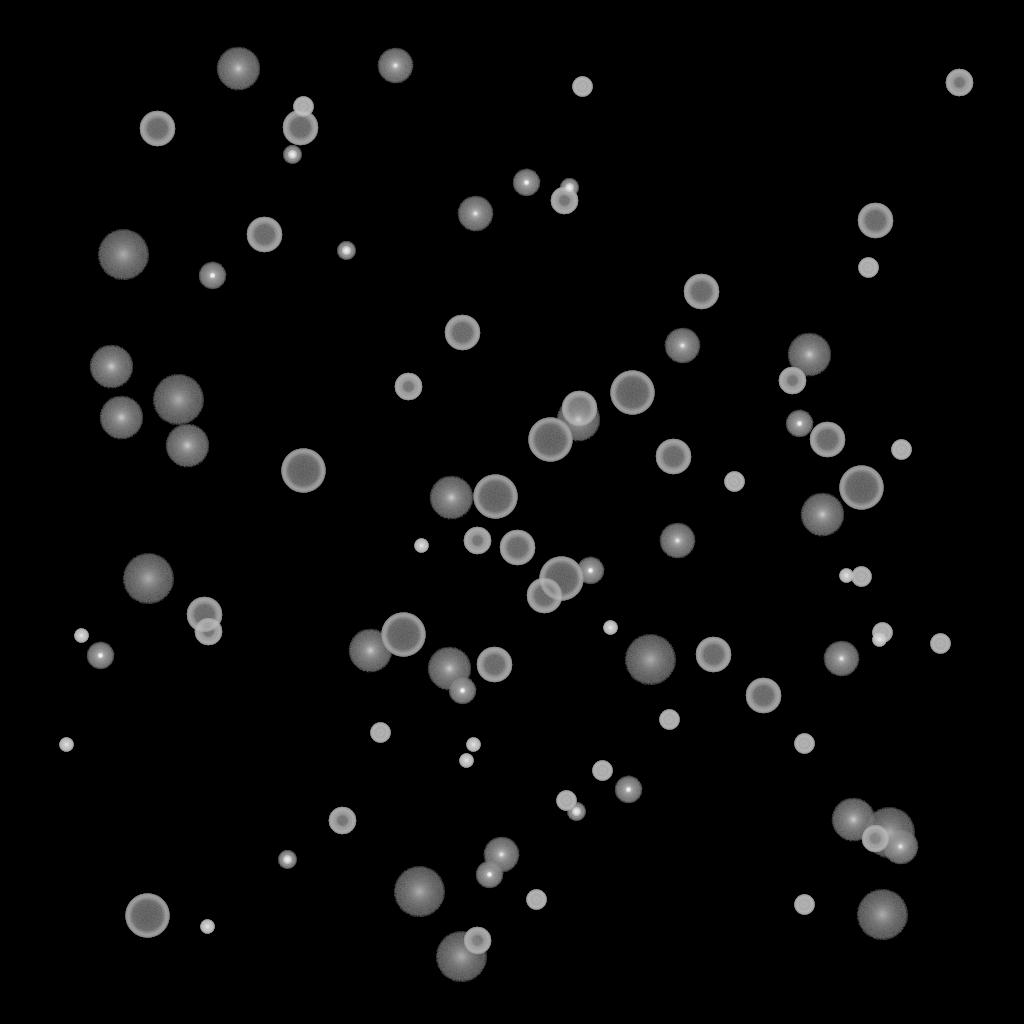depth:-10: (475, 861, 503, 889), (86, 642, 114, 670), (448, 677, 476, 705), (614, 776, 642, 804), (512, 169, 540, 197), (576, 557, 604, 585), (198, 262, 226, 290), (785, 410, 813, 438)
depth:-20: (560, 179, 578, 197), (278, 851, 296, 869), (337, 242, 355, 260), (283, 146, 301, 164), (567, 803, 585, 821)
depth:-30: (74, 629, 88, 643), (459, 754, 473, 768), (603, 621, 617, 635), (839, 569, 853, 583), (200, 920, 214, 934), (872, 633, 886, 647), (59, 738, 73, 752), (466, 738, 480, 752), (414, 539, 428, 553)
depth:-40: (858, 258, 878, 278), (572, 77, 592, 97), (794, 734, 814, 754), (526, 890, 546, 910), (293, 97, 313, 117), (794, 895, 814, 915), (872, 623, 892, 643), (851, 567, 871, 587), (370, 723, 390, 743), (592, 761, 612, 781), (930, 634, 950, 654), (556, 791, 576, 811), (659, 710, 679, 730), (891, 440, 911, 460), (724, 472, 744, 492)
depth:-50: (194, 618, 222, 646), (463, 927, 491, 955), (945, 69, 973, 97), (778, 367, 806, 395), (328, 807, 356, 835), (861, 825, 889, 853), (463, 527, 491, 555), (394, 373, 422, 401), (550, 187, 578, 215)
depth:-60: (282, 110, 318, 146), (246, 217, 282, 253), (655, 439, 691, 475), (476, 647, 512, 683), (745, 678, 781, 714), (857, 203, 893, 239), (561, 391, 597, 427), (695, 637, 731, 673), (526, 578, 562, 614), (186, 597, 222, 633), (499, 530, 535, 566), (809, 422, 845, 458), (683, 274, 719, 310), (444, 315, 480, 351), (139, 111, 175, 147)
depth:-70: (539, 557, 583, 601), (610, 371, 654, 415), (381, 613, 425, 657), (839, 466, 883, 510), (473, 475, 517, 519), (528, 418, 572, 462), (281, 449, 325, 493), (125, 894, 169, 938)
depth:0: (457, 196, 493, 232), (664, 328, 700, 364), (377, 48, 413, 84), (823, 641, 859, 677), (882, 829, 918, 865), (659, 523, 695, 559), (483, 837, 519, 873)
depth:10: (787, 333, 831, 377), (556, 398, 600, 442), (89, 345, 133, 389), (216, 47, 260, 91), (800, 493, 844, 537), (99, 396, 143, 440), (427, 647, 471, 691), (348, 629, 392, 673), (165, 424, 209, 468), (831, 798, 875, 842), (429, 476, 473, 520)
depth:20: (97, 230, 149, 280), (856, 890, 908, 940), (624, 635, 676, 685), (122, 554, 174, 604), (435, 932, 487, 982), (393, 867, 445, 917), (152, 375, 204, 425), (863, 808, 915, 858)
